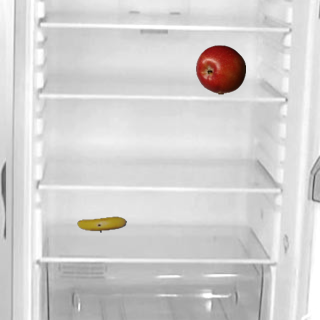Apple Braeburn: (195, 44, 245, 94)
Banana: (76, 199, 126, 249)
